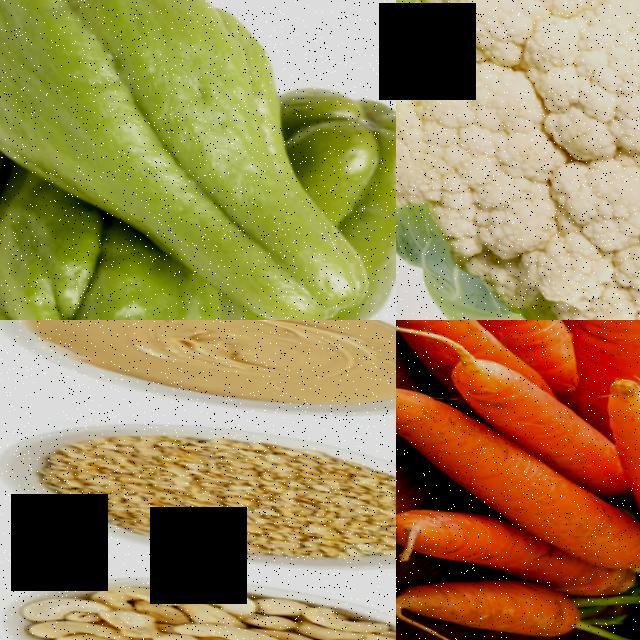carrot: (396, 428, 571, 523), (396, 567, 616, 640), (446, 355, 606, 448), (396, 513, 553, 589), (564, 320, 640, 388)
cashew: (154, 610, 292, 640), (0, 586, 104, 623), (292, 598, 389, 631), (14, 614, 137, 640), (90, 575, 180, 610), (164, 578, 251, 613)
cauliflower: (396, 0, 640, 320)
chayote: (0, 0, 365, 243), (0, 189, 203, 320)
